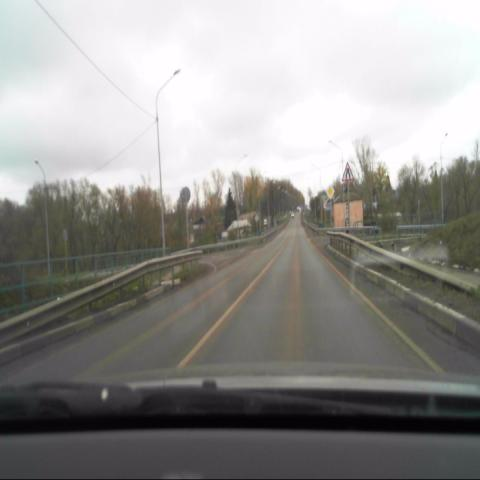1_20: (342, 161, 353, 181)
2_1: (325, 184, 335, 200)
